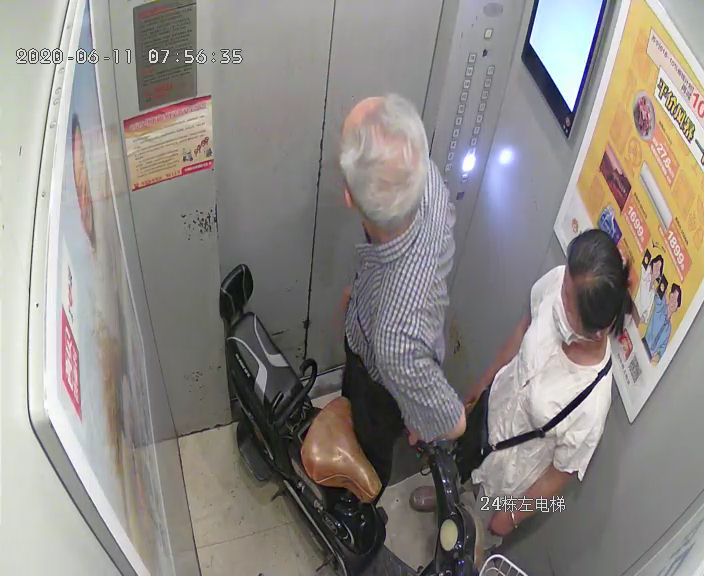Electric-bicycle: (219, 263, 474, 576)
